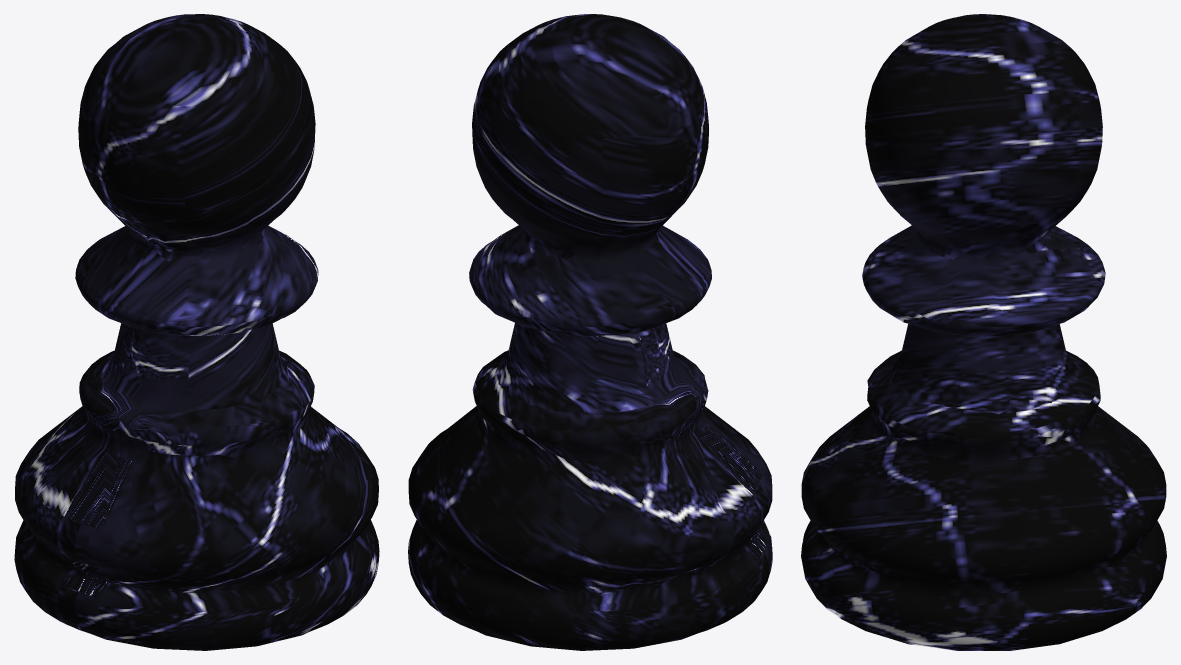
The model's file is black_pawn.glb.
3 views of the same model, side by side, from view 1: azimuth 30°, elevation 25°; view 2: azimuth 150°, elevation 25°; view 3: azimuth 270°, elevation 25° (orthographic).
Parts seen in each view (by area): view 1: Circle.012; view 2: Circle.012; view 3: Circle.012.
Part boxes in pixels (<box>): Circle.012: <box>14,14,379,650</box>; Circle.012: <box>408,14,772,650</box>; Circle.012: <box>801,14,1166,650</box>.
Size of the model in its own units: 1.14 by 1.91 by 1.14.
Materials: 1 (1 with a texture image).
